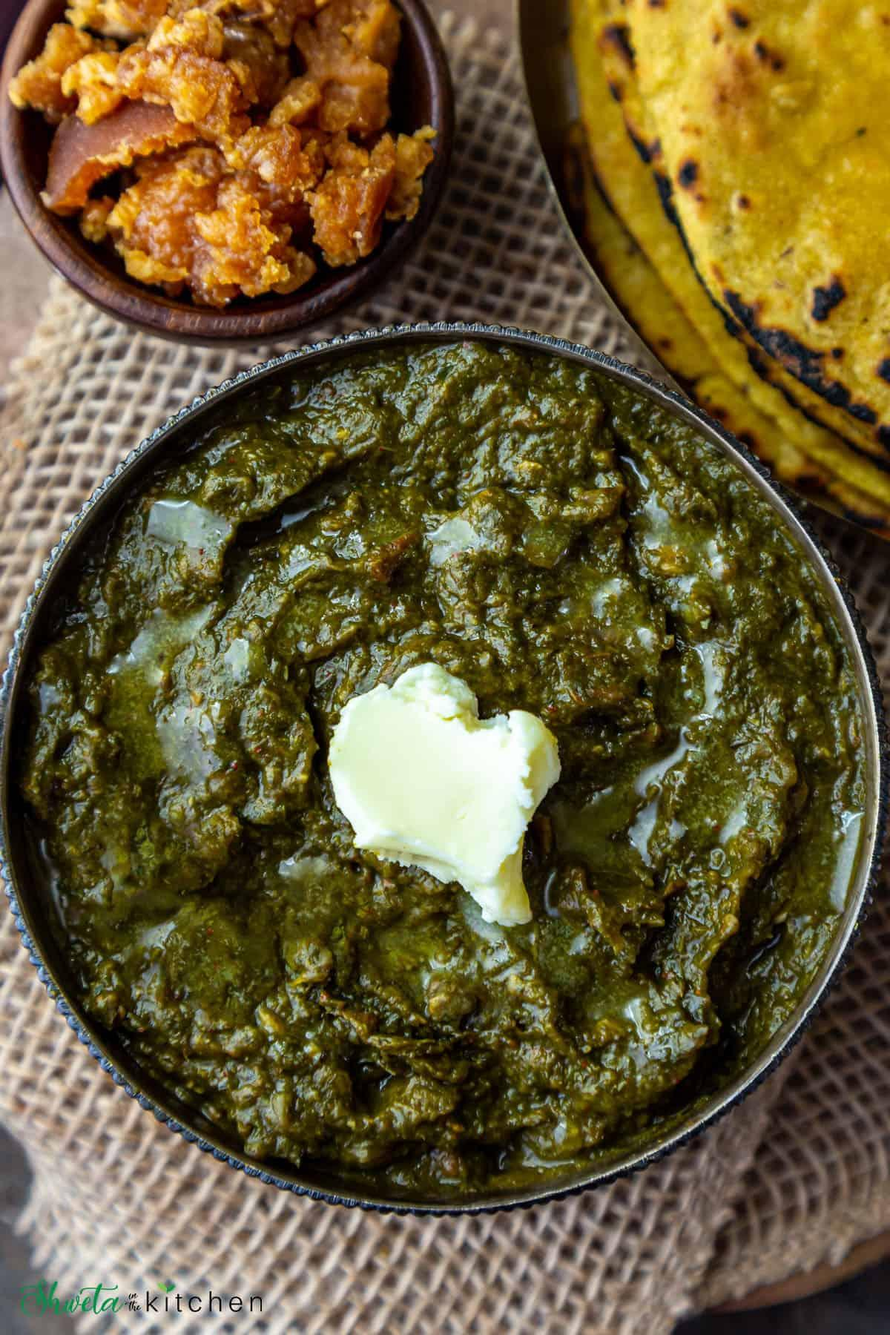saag: (129, 460, 779, 1170)
